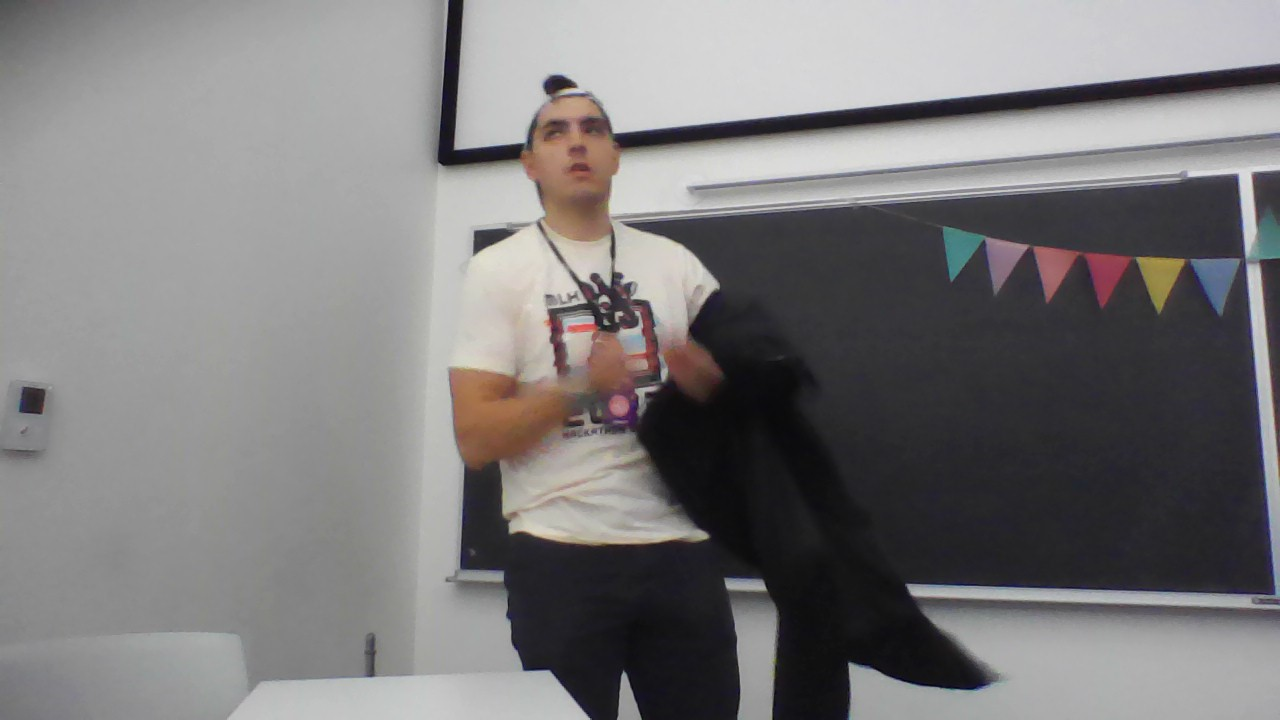height_frame: (438, 77, 842, 720)
hip_frame: (509, 520, 724, 556)
shoulder_frame: (463, 251, 706, 270)
waist_frame: (501, 424, 714, 457)
